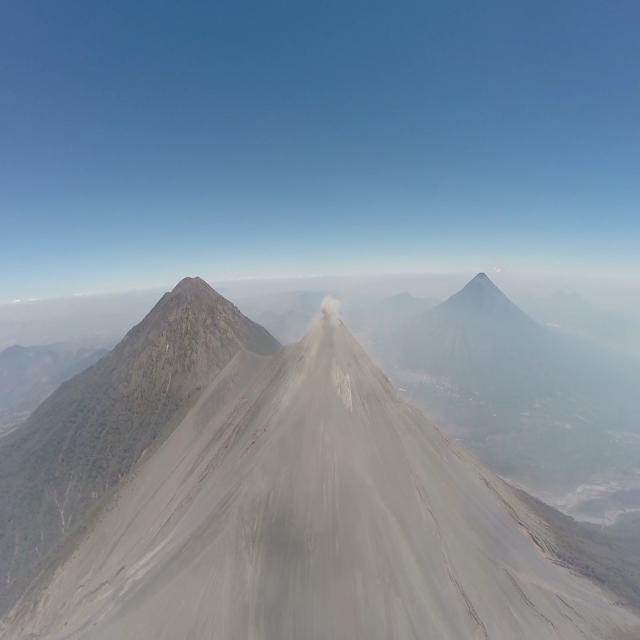Plume: (320, 296, 346, 325)
Summit: (272, 312, 412, 415)
